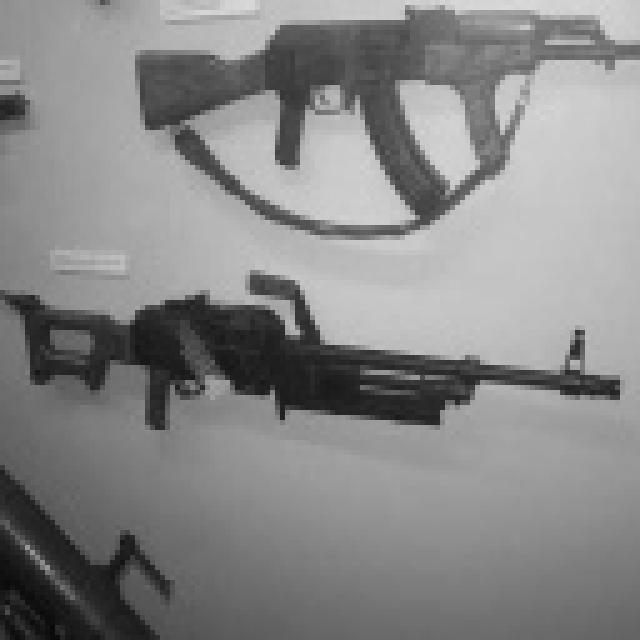Rifle: (126, 0, 640, 254), (0, 243, 640, 442)
